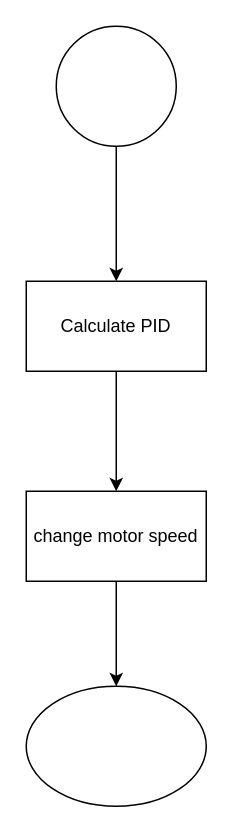
Some shapes in this 233 by 833 pixel diagram are drawn without their labels. Here are the shapes that lost their labels. From the top down, the box of each, then its label:
(55, 25, 176, 146): Start
(25, 685, 206, 806): Stop
